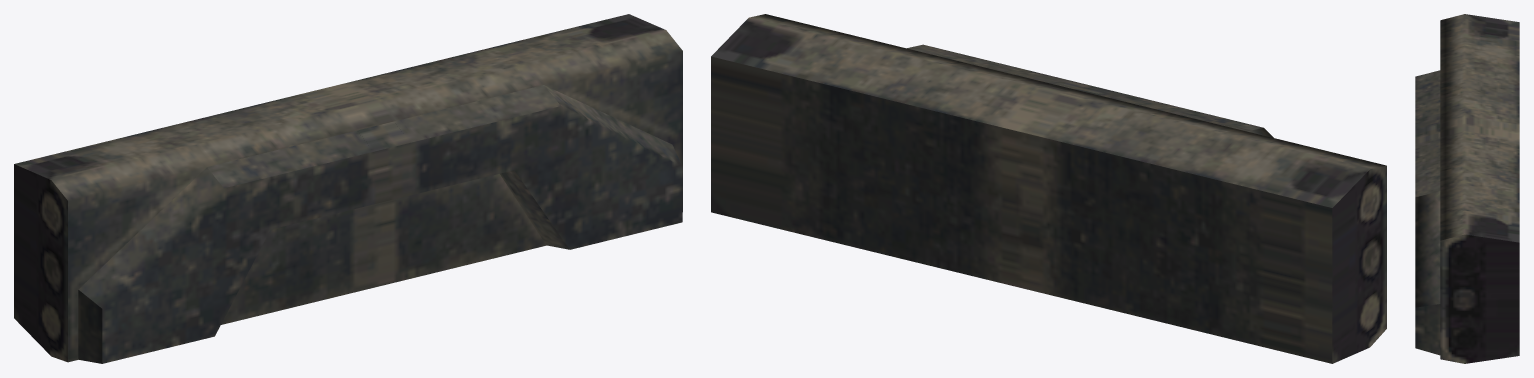
3 renders of one model, left to right at view 1: azimuth 30°, elevation 25°; view 2: azimuth 150°, elevation 25°; view 3: azimuth 270°, elevation 25°, orthographic. The views are drawn at different scales.
Parts seen in each view (by area): view 1: set_0_group_0; view 2: set_0_group_0; view 3: set_0_group_0.
Boxes of the visible parts, <box> form: set_0_group_0: <box>14,14,682,363</box>; set_0_group_0: <box>711,14,1386,363</box>; set_0_group_0: <box>1415,14,1519,363</box>.
Bounding box in the file's own units: 0.6164 × 0.1689 × 0.1232.
1 material, 1 textured.
